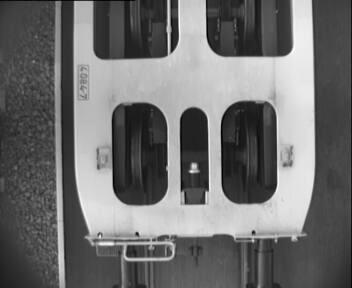twist_lock_2: (100, 94, 292, 211)
